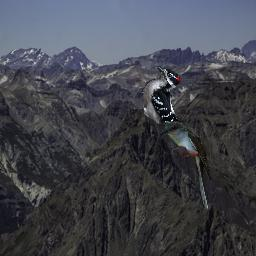Cuckoo: (159, 121, 213, 209)
Woodpecker: (141, 66, 196, 131)
